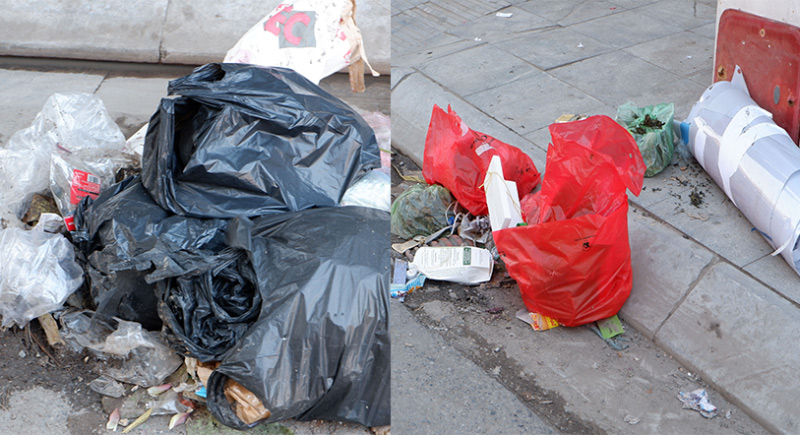plastic bag: (1, 1, 391, 433), (393, 99, 686, 326)
